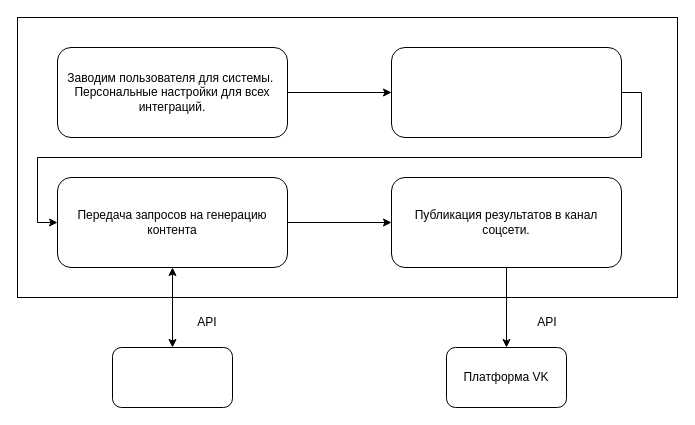
The diagram is 695 pixels wide and 425 high, and some of its shapes have lost their labels. Here are the shapes that lost their labels. From the top down, the box of each, then its label:
(390, 46, 622, 138): Указываем тему и стиль сообщений
(112, 346, 232, 408): LLM провайдер
